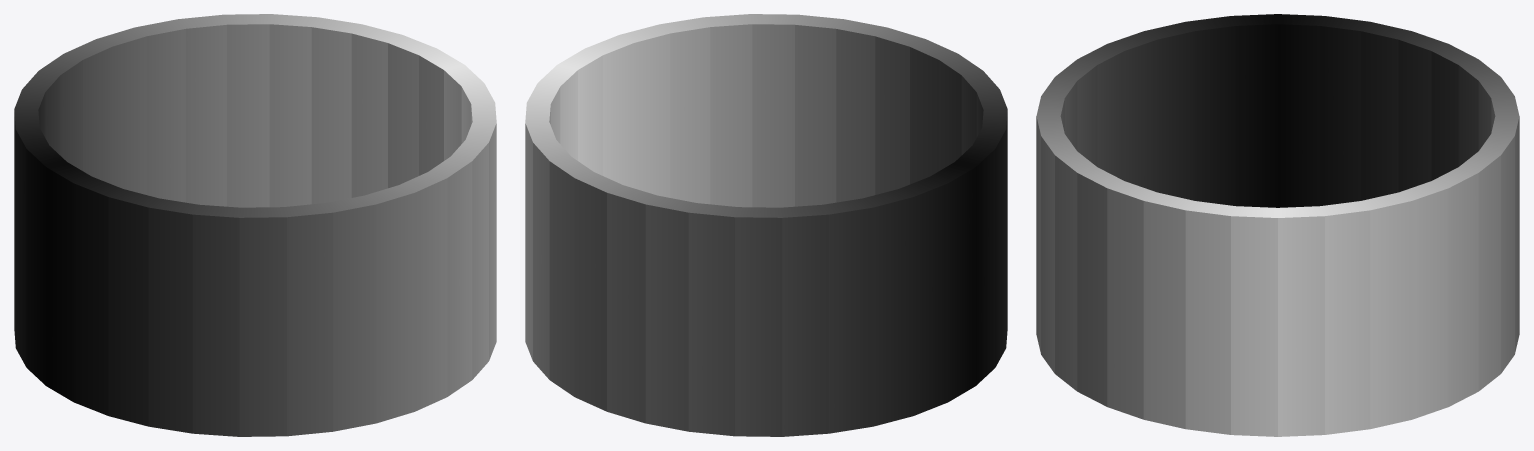
File: Cylindernew.dae
The picture shows the model from 3 angles, left to right: view 1: azimuth 30°, elevation 25°; view 2: azimuth 150°, elevation 25°; view 3: azimuth 270°, elevation 25°; orthographic projection.
Parts seen in each view (by area): view 1: Cylinder; view 2: Cylinder; view 3: Cylinder.
Boxes of the visible parts, x1,y1,x2,y2 form: Cylinder: (14, 14, 496, 436); Cylinder: (525, 14, 1007, 436); Cylinder: (1036, 14, 1519, 436).
Bounding box in the file's own units: 4 × 4 × 2.
1 material, 1 textured.
